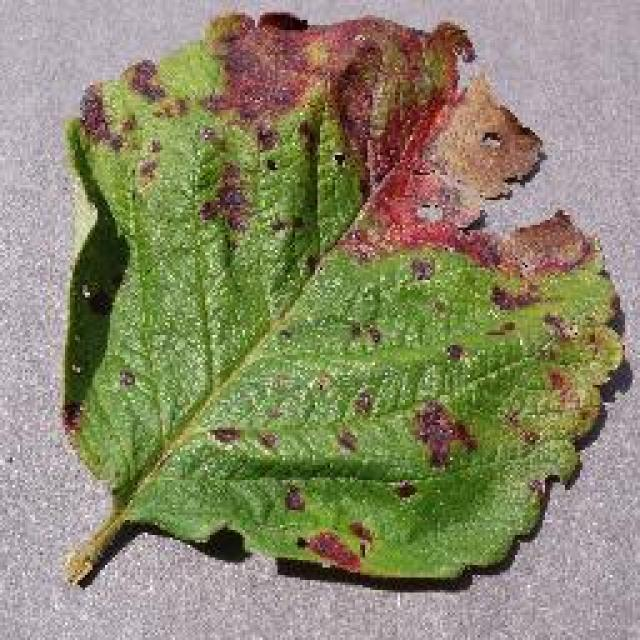Strawberry leaf scorch: (132, 61, 495, 346)
